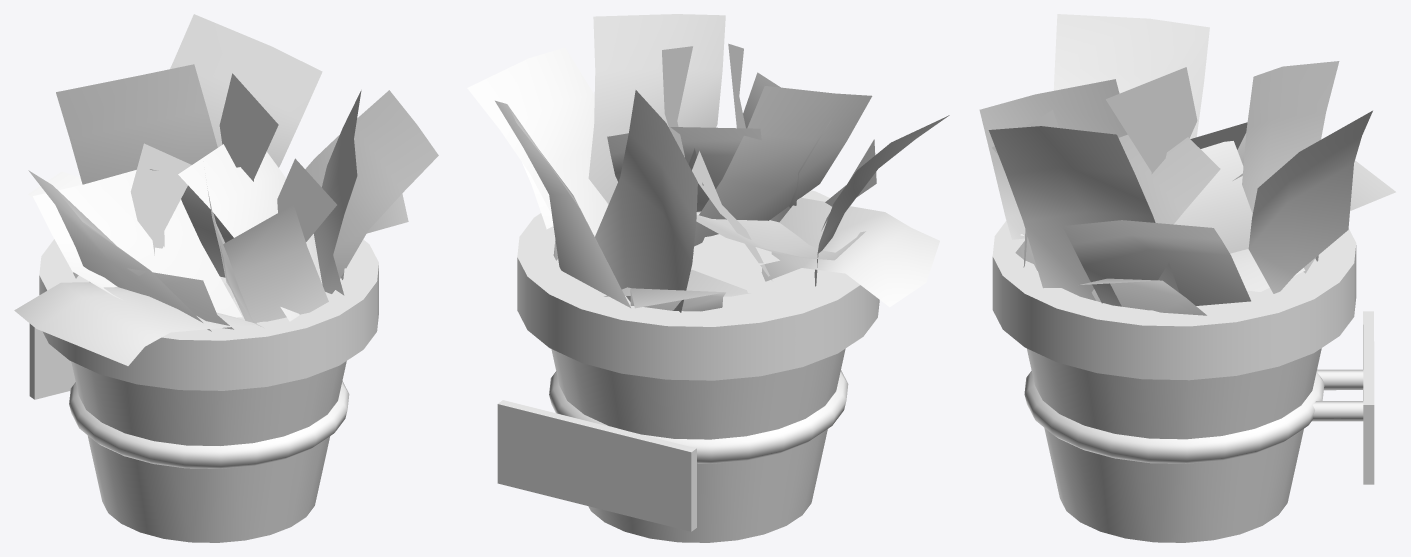
Rendered from Wall Plant 2.glb.
3 renders of one model, left to right at view 1: azimuth 30°, elevation 25°; view 2: azimuth 150°, elevation 25°; view 3: azimuth 270°, elevation 25°, orthographic. The views are drawn at different scales.
Visible parts, largest first — view 1: Wall Plant 2; view 2: Wall Plant 2; view 3: Wall Plant 2.
Part boxes in pixels (x1,y1,x2,y2): Wall Plant 2: [14, 14, 438, 542]; Wall Plant 2: [467, 14, 949, 542]; Wall Plant 2: [979, 14, 1395, 542].
Bounding box in the file's own units: 0.3667 × 0.3701 × 0.3159.
2 materials, 1 textured.
